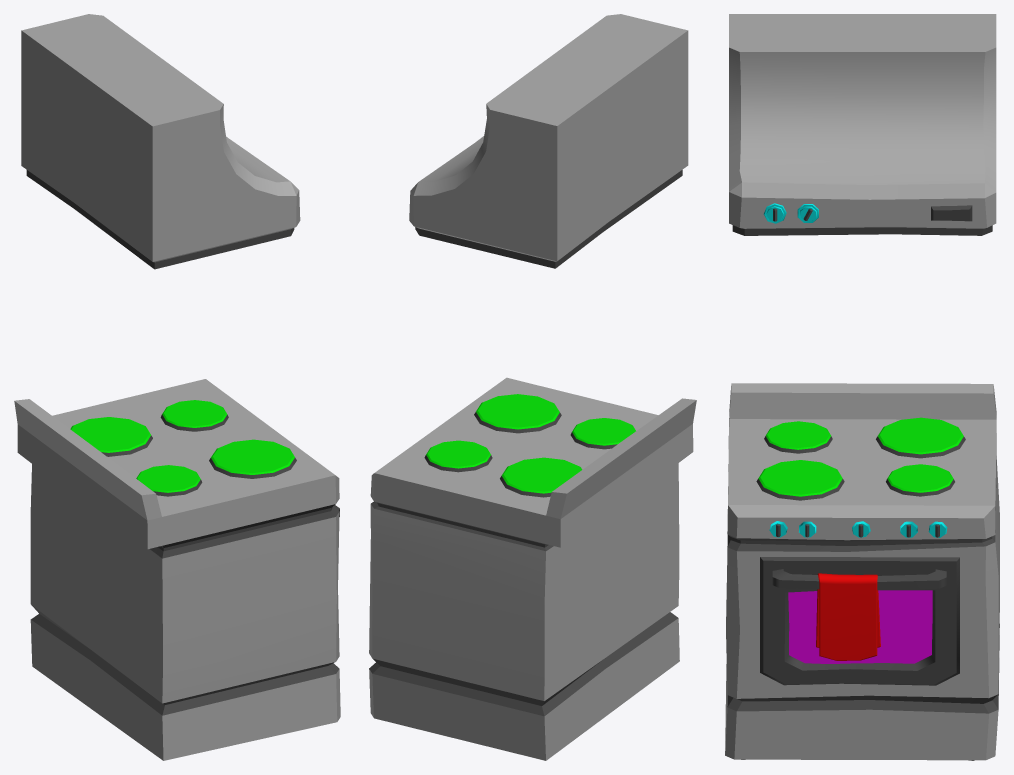
The model's file is Kitchen_Stove.fbx.
3 views of the same model, side by side, from view 1: azimuth 30°, elevation 25°; view 2: azimuth 150°, elevation 25°; view 3: azimuth 270°, elevation 25° (orthographic). The views are drawn at different scales.
Parts seen in each view (by area): view 1: Kitchen_Stove; view 2: Kitchen_Stove; view 3: Kitchen_Stove.
Boxes of the visible parts, x1,y1,x2,y2 form: Kitchen_Stove: (14, 14, 340, 760); Kitchen_Stove: (369, 14, 696, 760); Kitchen_Stove: (725, 14, 999, 760).
Size of the model in its own units: 118 by 322 by 122.
